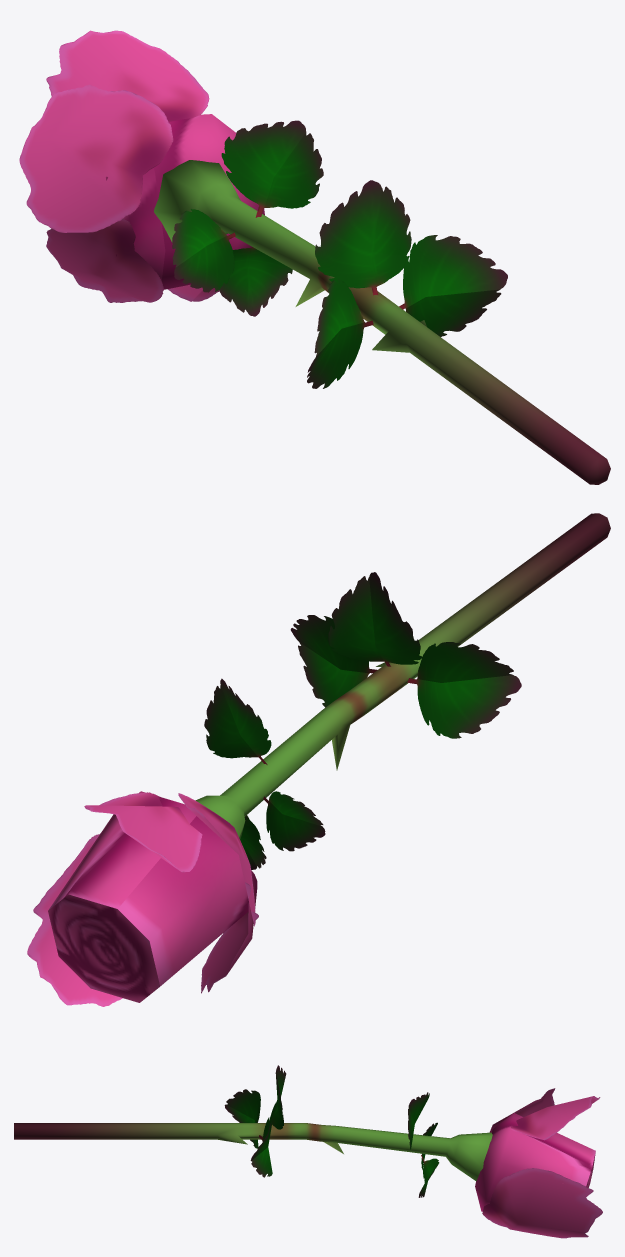
Rendered from SM_Rose_Pink_Closed.fbx.
3 renders of one model, top to bottom at view 1: azimuth 30°, elevation 25°; view 2: azimuth 150°, elevation 25°; view 3: azimuth 270°, elevation 25°, orthographic. The views are drawn at different scales.
Parts seen in each view (by area): view 1: Rose_Pink_Closed; view 2: Rose_Pink_Closed; view 3: Rose_Pink_Closed.
Boxes of the visible parts, x1,y1,x2,y2 form: Rose_Pink_Closed: (19, 30, 610, 484); Rose_Pink_Closed: (27, 513, 610, 1006); Rose_Pink_Closed: (14, 1065, 602, 1238).
Bounding box in the file's own units: 35.12 × 42.85 × 129.
